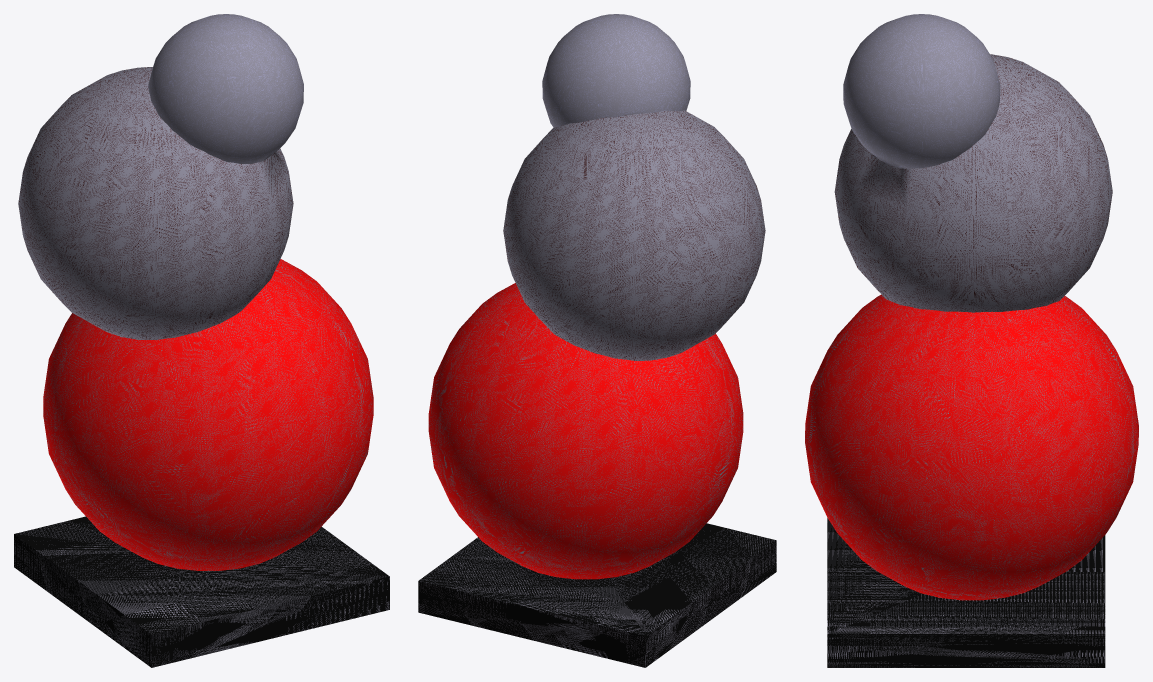
Rendered from art sculpture.fbx.
3 views of the same model, side by side, from view 1: azimuth 30°, elevation 25°; view 2: azimuth 150°, elevation 25°; view 3: azimuth 270°, elevation 25° (orthographic). The views are drawn at different scales.
Visible parts, largest first — view 1: Component_1_1, Model; view 2: Component_1_1, Model; view 3: Component_1_1, Model.
Part boxes in pixels (bbox=[...]): Component_1_1: bbox=[18, 14, 373, 570]; Model: bbox=[14, 516, 389, 667]; Component_1_1: bbox=[428, 14, 765, 579]; Model: bbox=[418, 523, 776, 667]; Component_1_1: bbox=[805, 14, 1138, 600]; Model: bbox=[827, 518, 1105, 667].
Size of the model in its own units: 1 by 1.78 by 0.9145.
